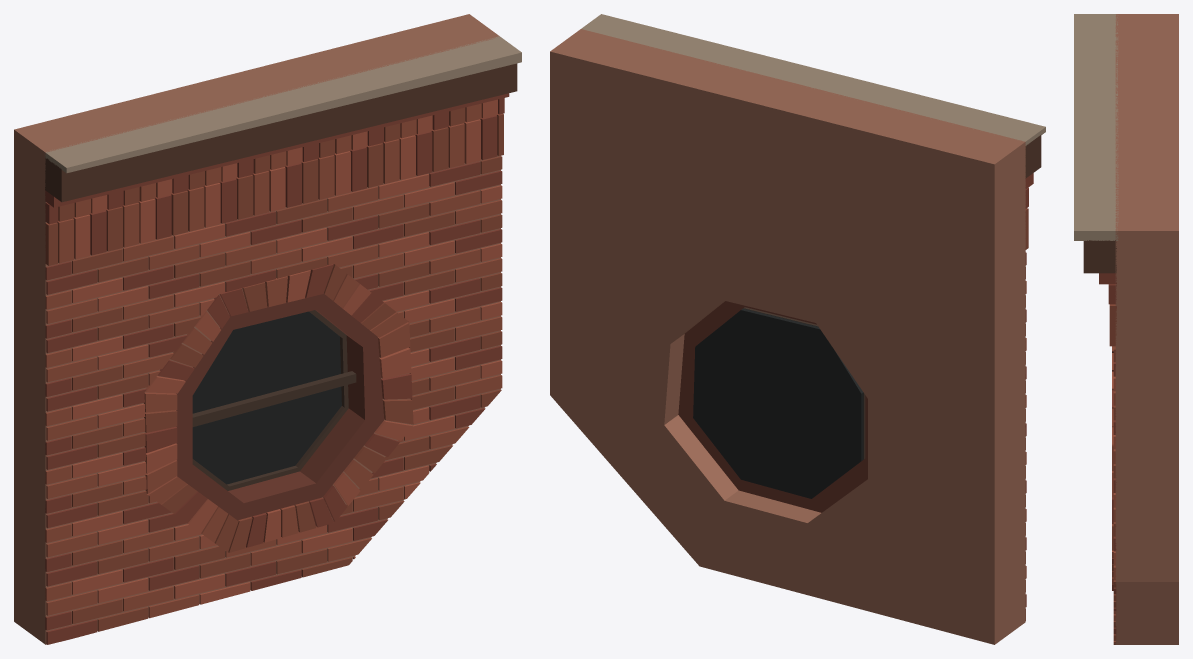
The model's file is changning-wuyi-154-octagonal-attic-raw.glb.
The picture shows the model from 3 angles, left to right: view 1: azimuth 30°, elevation 25°; view 2: azimuth 150°, elevation 25°; view 3: azimuth 270°, elevation 25°; orthographic projection. The views are drawn at different scales.
Visible parts, largest first — view 1: 武夷路154号住宅八角砖券阁窗与檐下立砖; view 2: 武夷路154号住宅八角砖券阁窗与檐下立砖; view 3: 武夷路154号住宅八角砖券阁窗与檐下立砖.
Part boxes in pixels (left/top/right/bottom): 武夷路154号住宅八角砖券阁窗与檐下立砖: left=14, top=14, right=521, bottom=644; 武夷路154号住宅八角砖券阁窗与檐下立砖: left=550, top=14, right=1045, bottom=644; 武夷路154号住宅八角砖券阁窗与檐下立砖: left=1074, top=14, right=1178, bottom=644.
Size of the model in its own units: 1.93 by 2.01 by 0.385.
